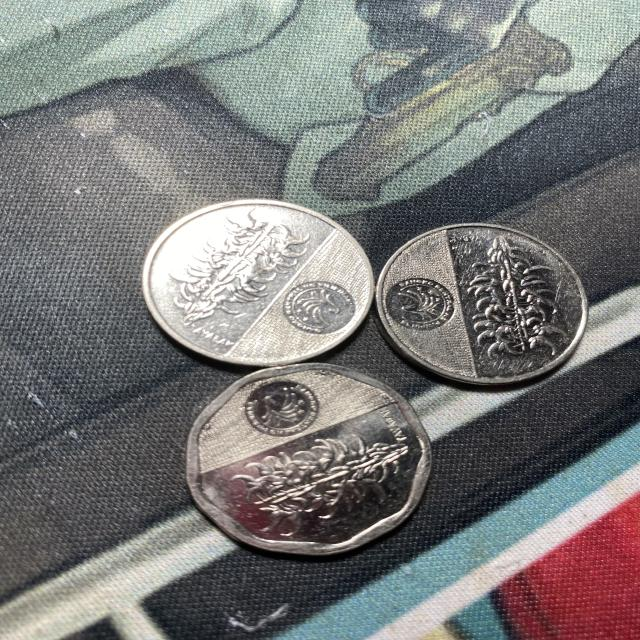5_New_Back: (231, 438, 429, 524), (460, 237, 570, 357), (173, 215, 296, 317)
